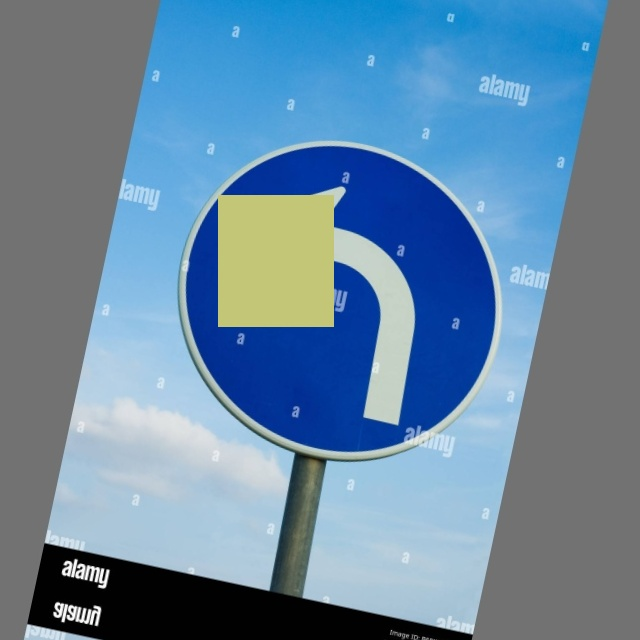Compulsory_Turn_Left_Ahead: (151, 117, 518, 488)
